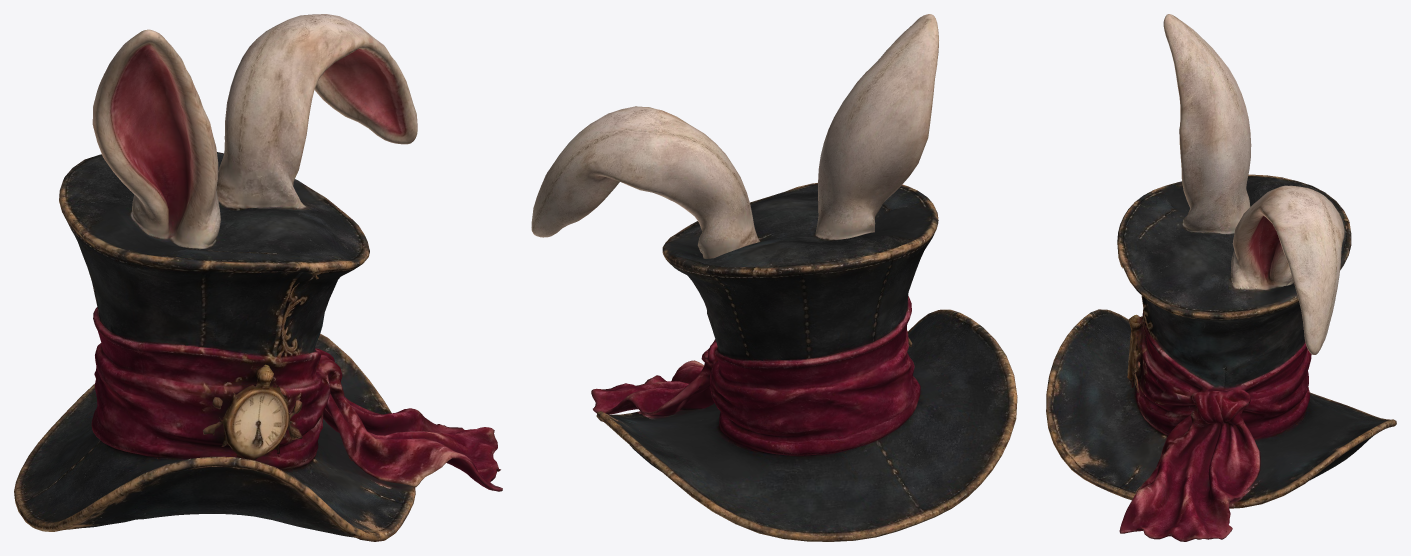
The model's file is mad+hat.glb.
3 views of the same model, side by side, from view 1: azimuth 30°, elevation 25°; view 2: azimuth 150°, elevation 25°; view 3: azimuth 270°, elevation 25° (orthographic). The views are drawn at different scales.
Parts seen in each view (by area): view 1: tripo_node_e0cc93b2-bd40-49e5-a21c-02c0adf5cf8b; view 2: tripo_node_e0cc93b2-bd40-49e5-a21c-02c0adf5cf8b; view 3: tripo_node_e0cc93b2-bd40-49e5-a21c-02c0adf5cf8b.
Boxes of the visible parts, x1,y1,x2,y2 form: tripo_node_e0cc93b2-bd40-49e5-a21c-02c0adf5cf8b: (14,14,502,541); tripo_node_e0cc93b2-bd40-49e5-a21c-02c0adf5cf8b: (531,14,1017,541); tripo_node_e0cc93b2-bd40-49e5-a21c-02c0adf5cf8b: (1046,14,1396,541).
Size of the model in its own units: 0.8915 by 0.9793 by 0.7798.
1 material, 1 textured.
